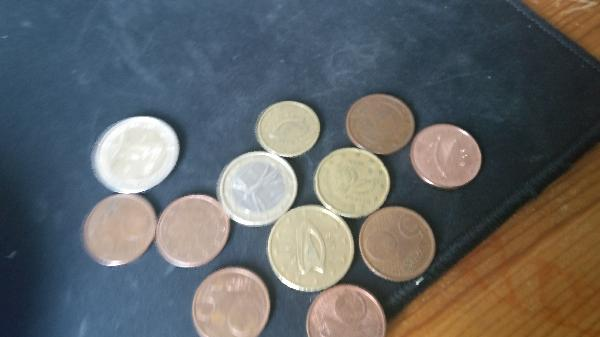Fifty Cent: (265, 205, 356, 289)
Five Cent: (354, 202, 445, 284), (410, 113, 484, 197), (78, 191, 156, 267), (191, 267, 271, 337), (155, 195, 229, 266), (304, 284, 393, 336), (346, 92, 414, 159)
One Euro: (219, 151, 296, 225)
Ten Cent: (253, 100, 320, 158)
Twenty Cent: (314, 145, 391, 217)
Two Euro: (92, 115, 179, 194)
